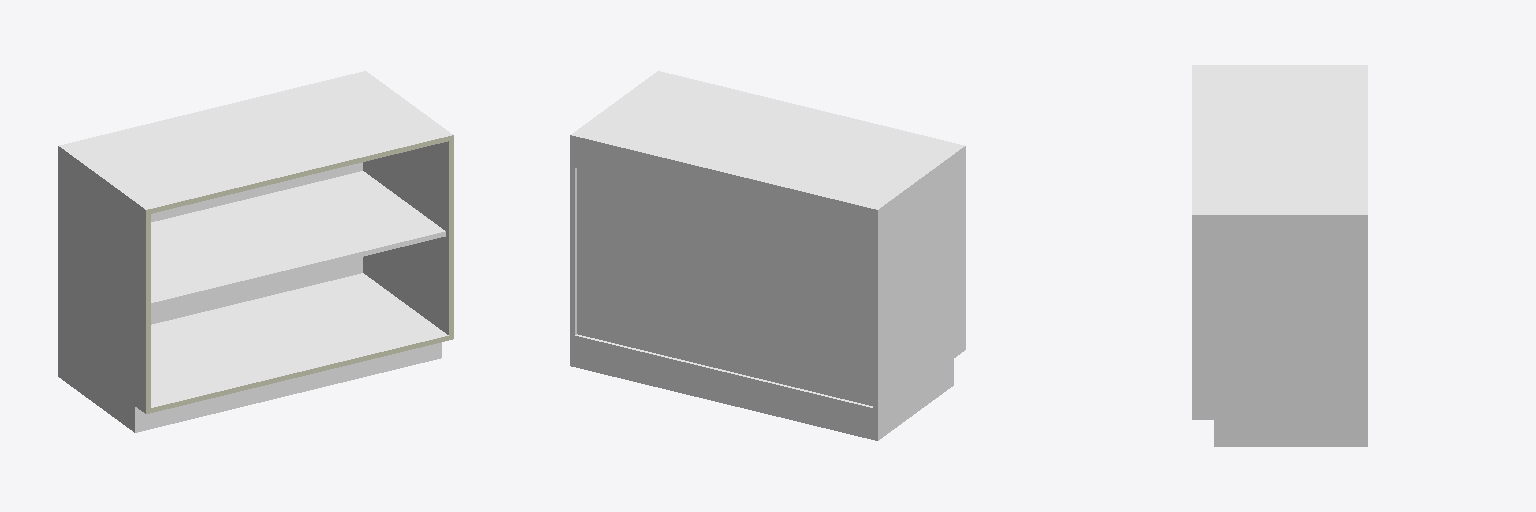
The picture shows the model from 3 angles: view 1: azimuth 30°, elevation 25°; view 2: azimuth 150°, elevation 25°; view 3: azimuth 270°, elevation 25°; orthographic projection.
Visible parts, largest first — view 1: Mesh3_TP_Box_BC_Model, Mesh2_BP_Box_BC_Model, Mesh1_S1_Box_BC_Model, Mesh6_NFEL1_LP_Box_BC_Model, Mesh5_RP_Box_BC_Model, Mesh10_Base_BC_Model, Mesh8_BKP_Box_BC_Model, Mesh7_LP_Box_BC_Model; view 2: Mesh8_BKP_Box_BC_Model, Mesh3_TP_Box_BC_Model, Mesh6_NFEL1_LP_Box_BC_Model, Mesh10_Base_BC_Model, Mesh9_BR1_Box_BC_Model, Mesh2_BP_Box_BC_Model, Mesh5_RP_Box_BC_Model, Mesh7_LP_Box_BC_Model; view 3: Mesh4_NFER1_RP_Box_BC_Model, Mesh3_TP_Box_BC_Model, Mesh10_Base_BC_Model, Mesh7_LP_Box_BC_Model.
Part boxes in pixels (bbox=[...]): Mesh3_TP_Box_BC_Model: bbox=[64, 72, 448, 213]; Mesh2_BP_Box_BC_Model: bbox=[151, 273, 448, 412]; Mesh1_S1_Box_BC_Model: bbox=[151, 171, 445, 307]; Mesh6_NFEL1_LP_Box_BC_Model: bbox=[58, 146, 145, 413]; Mesh5_RP_Box_BC_Model: bbox=[362, 71, 453, 339]; Mesh10_Base_BC_Model: bbox=[58, 342, 441, 432]; Mesh8_BKP_Box_BC_Model: bbox=[151, 162, 362, 324]; Mesh7_LP_Box_BC_Model: bbox=[59, 145, 150, 413]; Mesh8_BKP_Box_BC_Model: bbox=[577, 169, 872, 405]; Mesh3_TP_Box_BC_Model: bbox=[575, 72, 959, 213]; Mesh6_NFEL1_LP_Box_BC_Model: bbox=[878, 146, 965, 413]; Mesh10_Base_BC_Model: bbox=[570, 339, 953, 440]; Mesh9_BR1_Box_BC_Model: bbox=[575, 141, 872, 240]; Mesh2_BP_Box_BC_Model: bbox=[575, 334, 872, 412]; Mesh5_RP_Box_BC_Model: bbox=[570, 71, 661, 339]; Mesh7_LP_Box_BC_Model: bbox=[873, 145, 964, 413]; Mesh4_NFER1_RP_Box_BC_Model: bbox=[1192, 215, 1367, 419]; Mesh3_TP_Box_BC_Model: bbox=[1192, 68, 1367, 212]; Mesh10_Base_BC_Model: bbox=[1214, 420, 1367, 446]; Mesh7_LP_Box_BC_Model: bbox=[1192, 65, 1367, 67].
Size of the model in its own units: 2 by 1.44 by 0.9896.